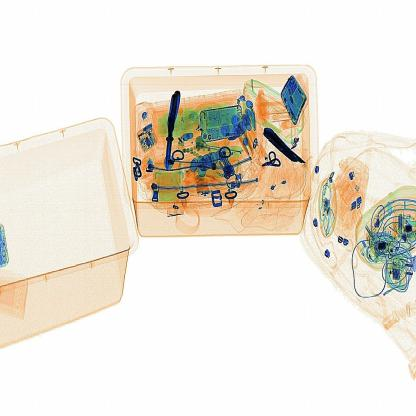gun: (162, 80, 184, 180)
